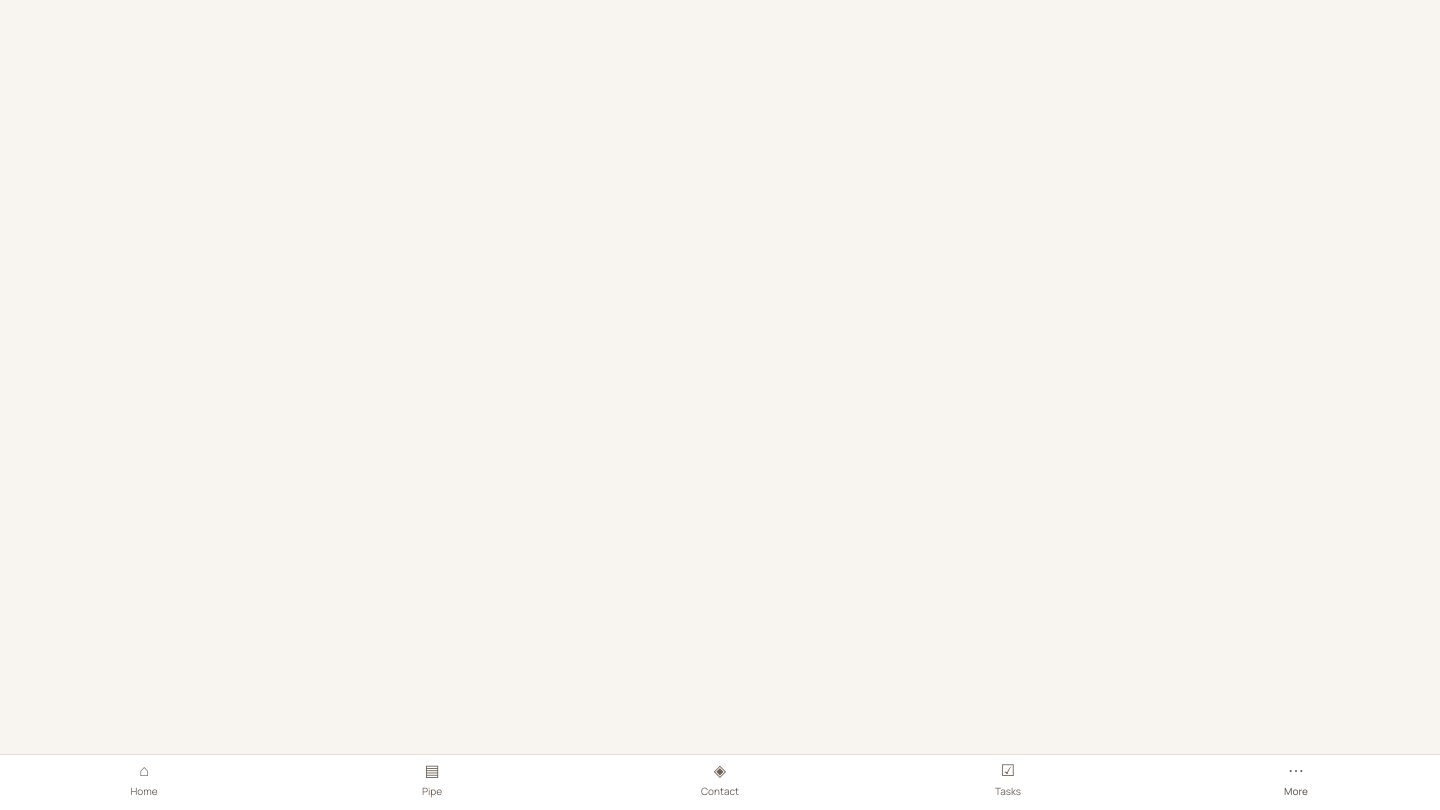
Test case: MobileNav › hides Team and Admin links from More for a counselor
Click the button "⋯ More" at [1296, 782], box [1152,755,1439,809]
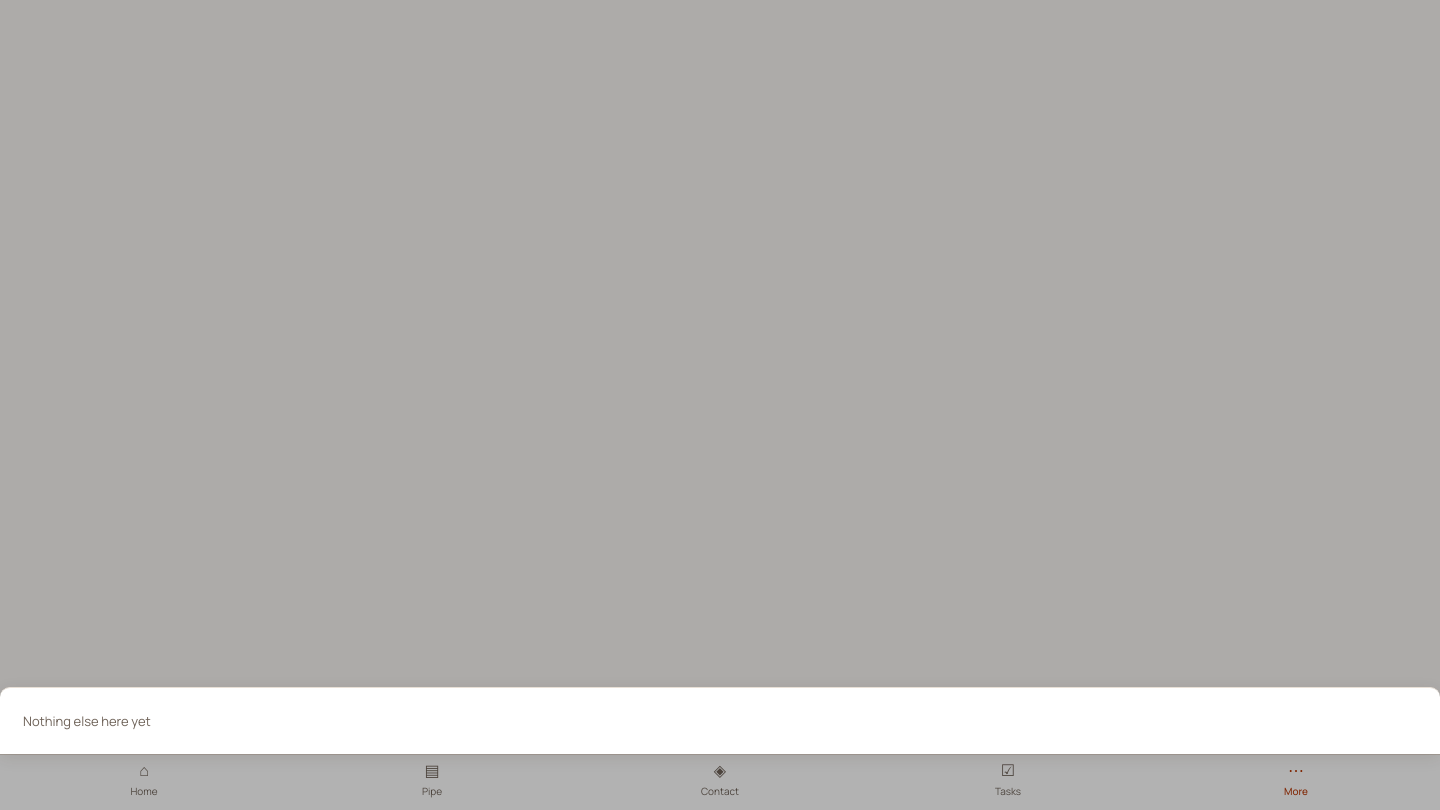
expect the text "Nothing else here yet" is shown: met, box [23,712,151,730]
